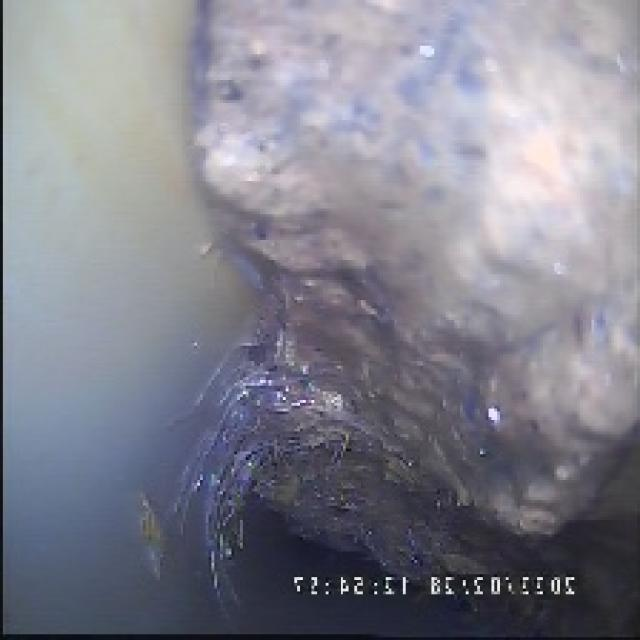sluge accumulation: (186, 23, 617, 563)
